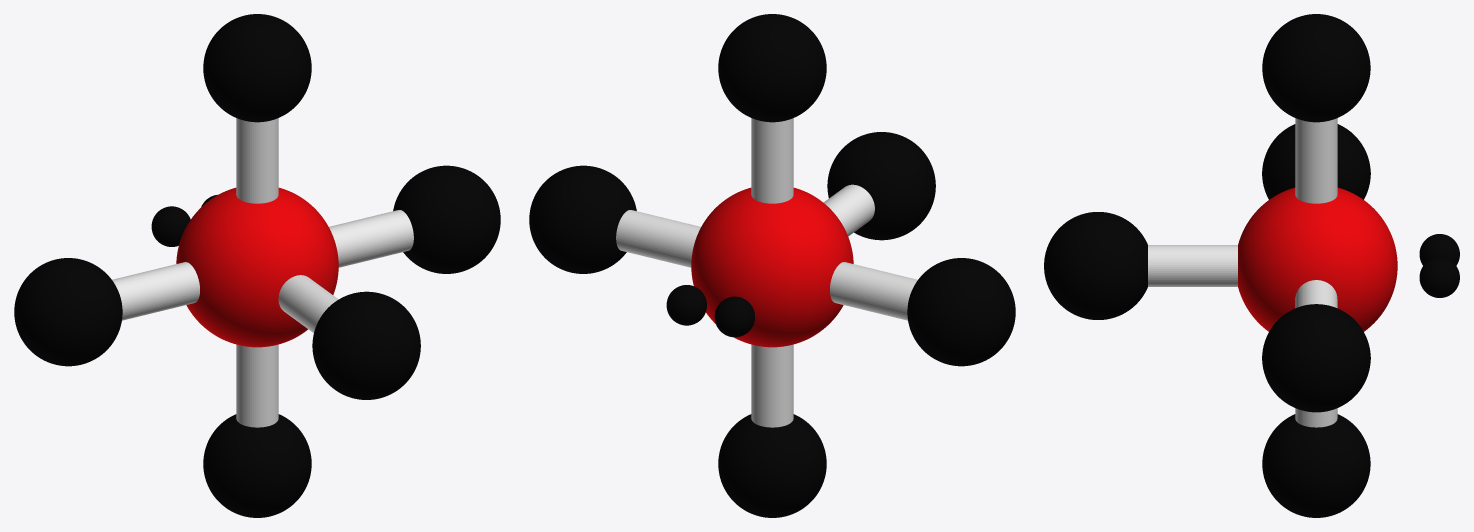
The model's file is squarepyramidal.glb.
3 renders of one model, left to right at view 1: azimuth 30°, elevation 25°; view 2: azimuth 150°, elevation 25°; view 3: azimuth 270°, elevation 25°, orthographic.
Parts seen in each view (by area): view 1: Sphere, Sphere.002, Sphere.006, Sphere.004, Sphere.003, Sphere.001, Sphere.005; view 2: Sphere, Sphere.002, Sphere.006, Sphere.004, Sphere.003, Sphere.001, Sphere.005; view 3: Sphere, Sphere.001, Sphere.002, Sphere.003, Sphere.004, Sphere.006, Sphere.005.
Part boxes in pixels (x1,y1,x2,y2): Sphere: (176,187,338,347); Sphere.002: (203,14,311,203); Sphere.006: (14,258,199,366); Sphere.004: (203,344,311,517); Sphere.003: (329,165,500,273); Sphere.001: (278,275,420,399); Sphere.005: (151,194,217,246); Sphere: (691,187,853,347); Sphere.002: (718,14,826,203); Sphere.006: (830,258,1015,366); Sphere.004: (718,344,826,517); Sphere.003: (529,165,700,273); Sphere.001: (823,132,935,240); Sphere.005: (666,285,754,337); Sphere: (1238,187,1397,331); Sphere.001: (1044,212,1237,319); Sphere.002: (1262,14,1370,203); Sphere.003: (1262,280,1370,412); Sphere.004: (1262,408,1370,517); Sphere.006: (1262,124,1370,199); Sphere.005: (1419,234,1459,297).
Size of the model in its own units: 9.98 by 9.98 by 7.62.
